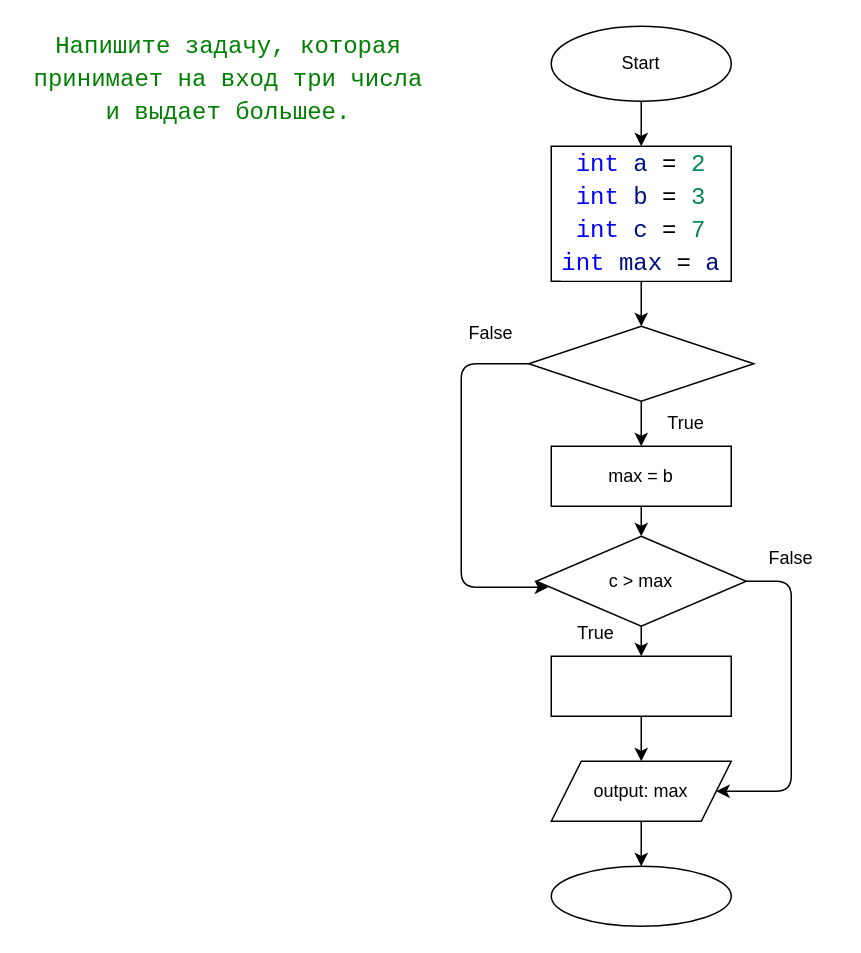
Some shapes in this 861 by 953 pixel diagram are drawn without their labels. The shapes that lost their labels are listed below. From the top down, each one's box as (x1, y1, x2, y2) in pixels, then its label:
(527, 325, 754, 401): max < b
(550, 655, 731, 716): max = c
(550, 865, 731, 926): End
